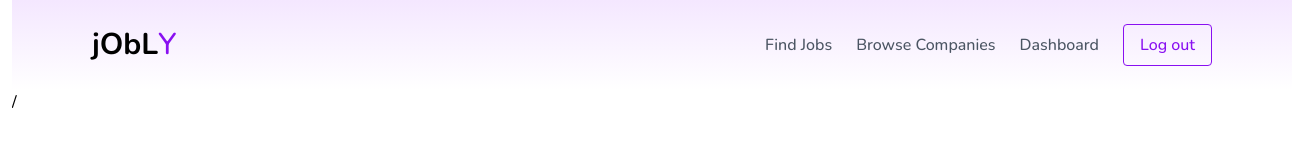
Test: NavBar › logged-in users see Dashboard + Log out, and logging out clears the session
Expected: the text "Sign Up" is not shown
Click the button "Log out".
click(1168, 45)  # box [1123,24,1212,66]
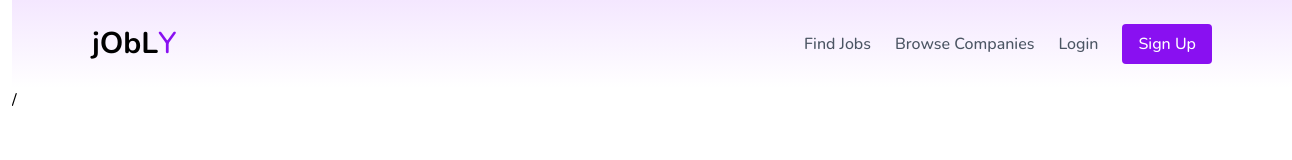
Expected: the link "Sign Up" is shown, [1122,24,1212,64]
